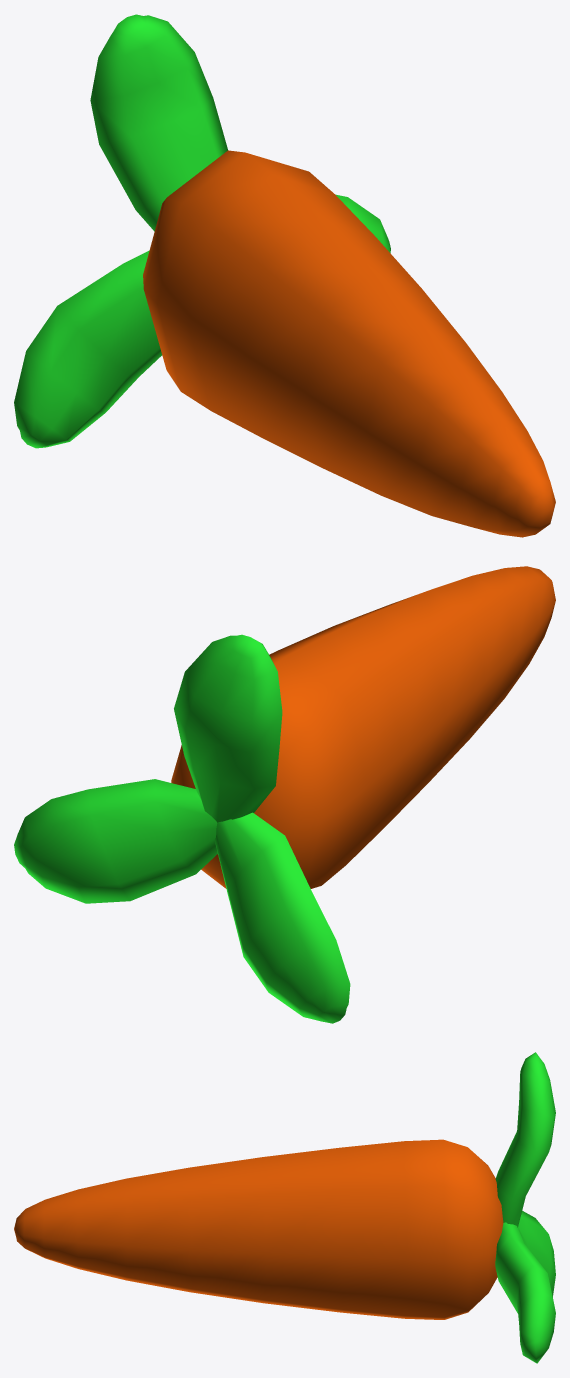
The model's file is Carrot.fbx.
3 views of the same model, one above another, from view 1: azimuth 30°, elevation 25°; view 2: azimuth 150°, elevation 25°; view 3: azimuth 270°, elevation 25° (orthographic). The views are drawn at different scales.
Parts seen in each view (by area): view 1: Carrot; view 2: Carrot; view 3: Carrot.
Part boxes in pixels (box(x1,y1,x2,y2)): Carrot: box(14, 14, 555, 537); Carrot: box(14, 566, 555, 1023); Carrot: box(14, 1052, 555, 1363).
Size of the model in its own units: 100 by 105 by 179.
